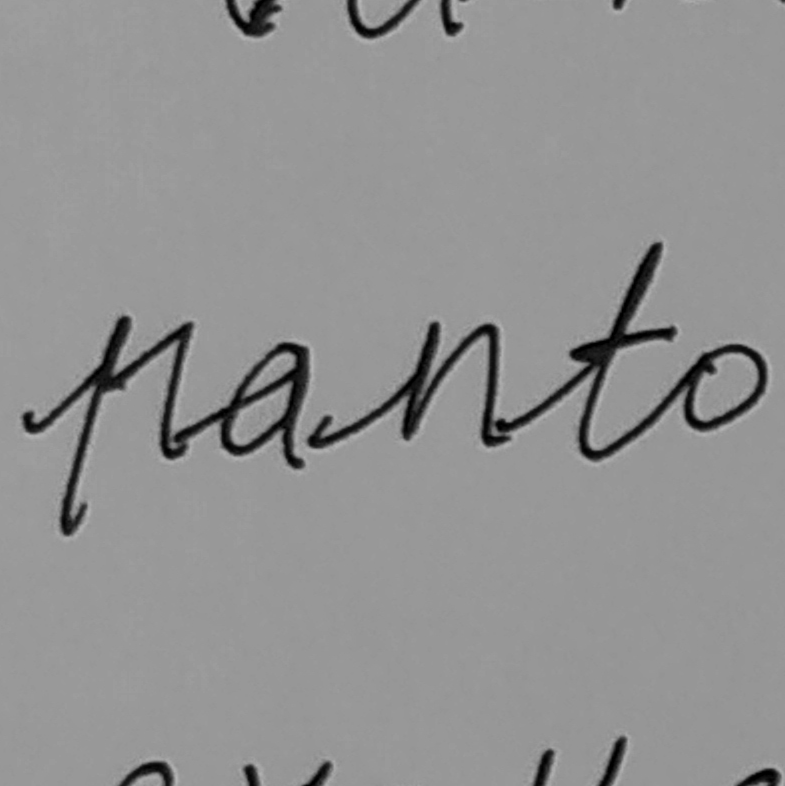a: (213, 333, 317, 477)
n: (395, 313, 512, 453)
o: (680, 341, 771, 435)
p: (55, 308, 196, 543)
t: (566, 237, 681, 461)
